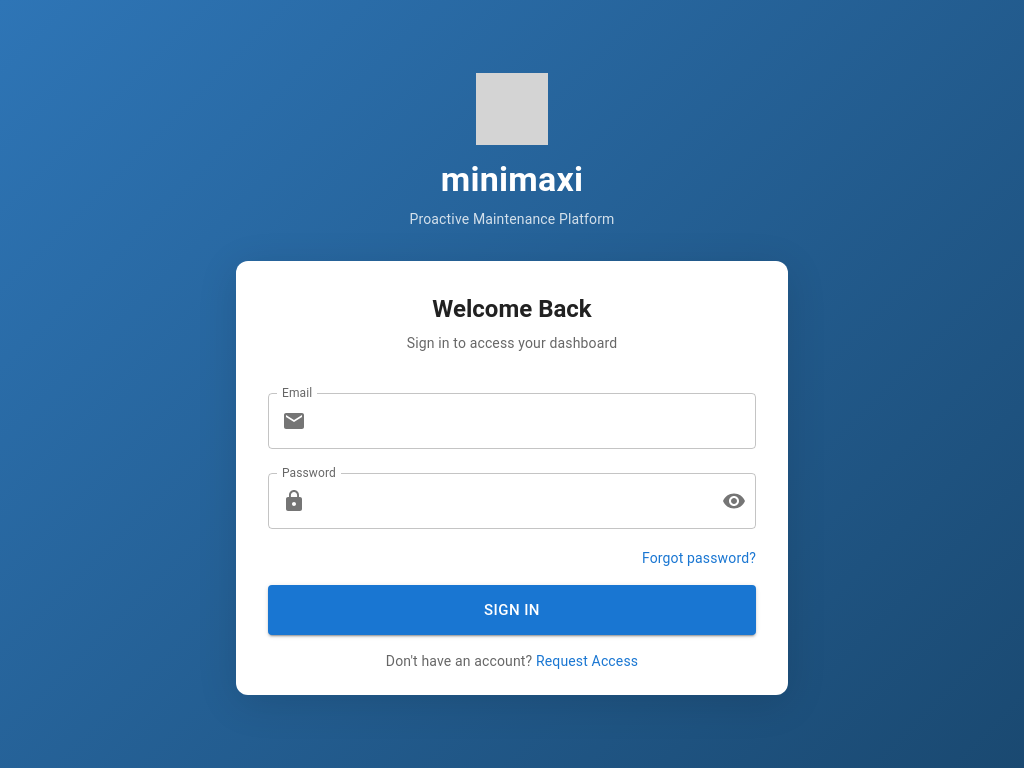
it: LoginPage – UI › shows validation error when submitted empty
This screenshot has width=1024, height=768.
Click the button "Sign In" at (512, 610), box [268, 585, 756, 635]
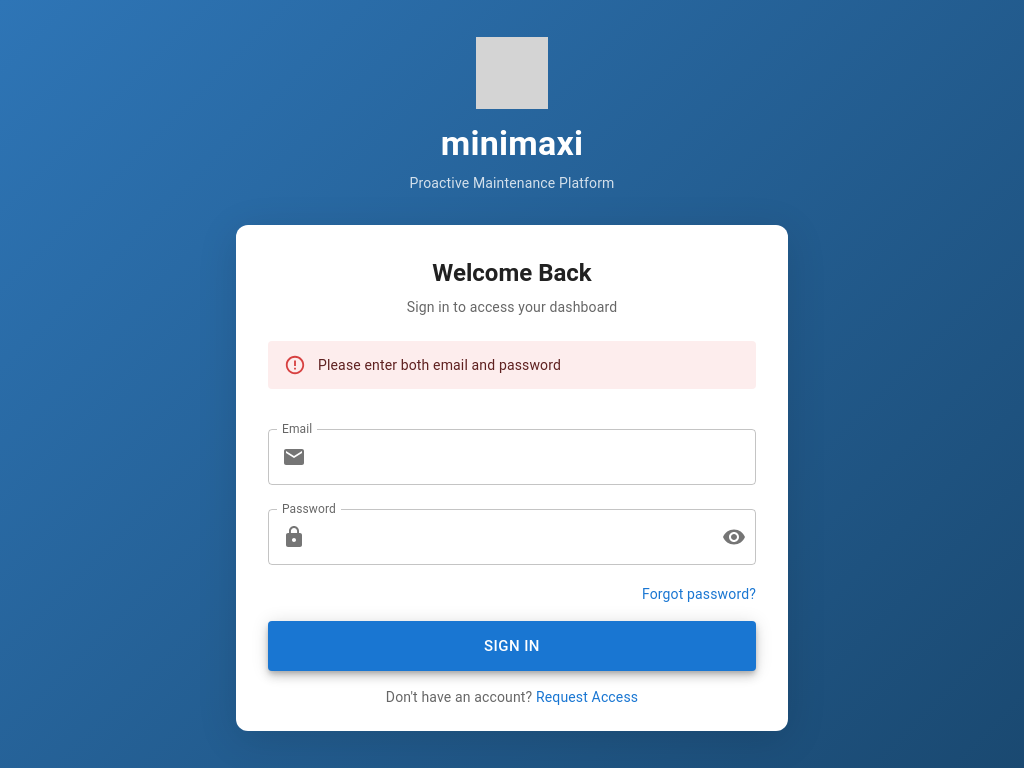
Check: the text "Please enter both email and password" is shown, box [318, 357, 561, 373]
